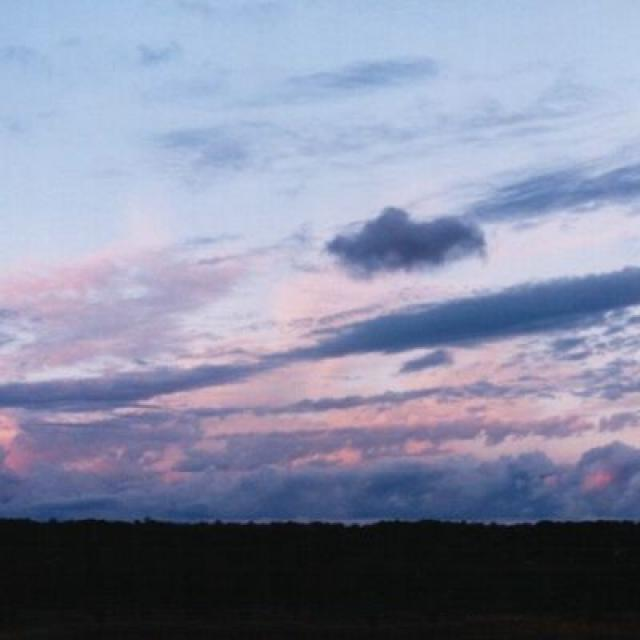St: (1, 202, 640, 422)
